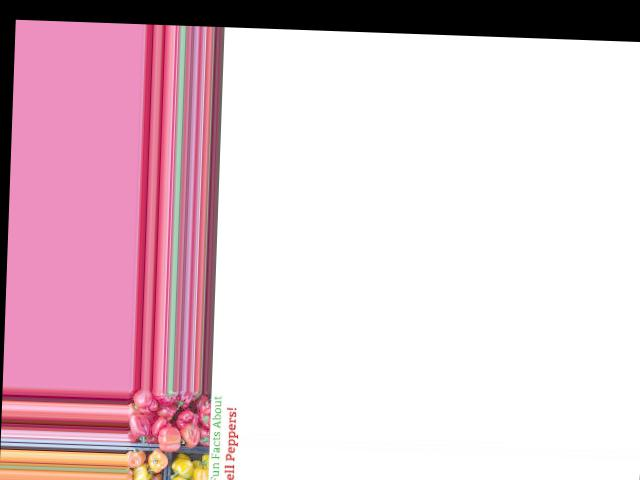bell_pepper: (193, 402, 214, 433)
